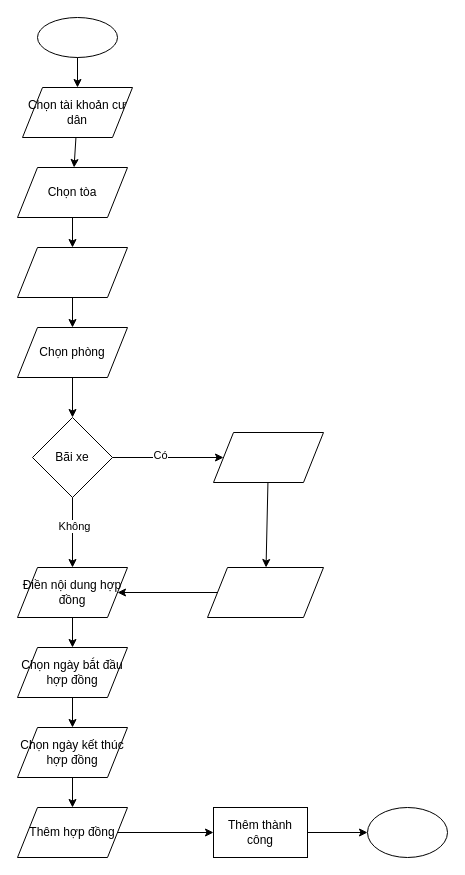
Image size: 465x875. Some labels were removed from this diagram. The shapes that lost their labels are listed below. From the top down, each one's centre as x and y in pixels, then its label:
(x=77, y=37): Bắt đầu
(x=72, y=272): Chọn tầng
(x=268, y=457): Chọn loại xe
(x=265, y=592): Chọn bãi xe
(x=407, y=832): Kết thúc
